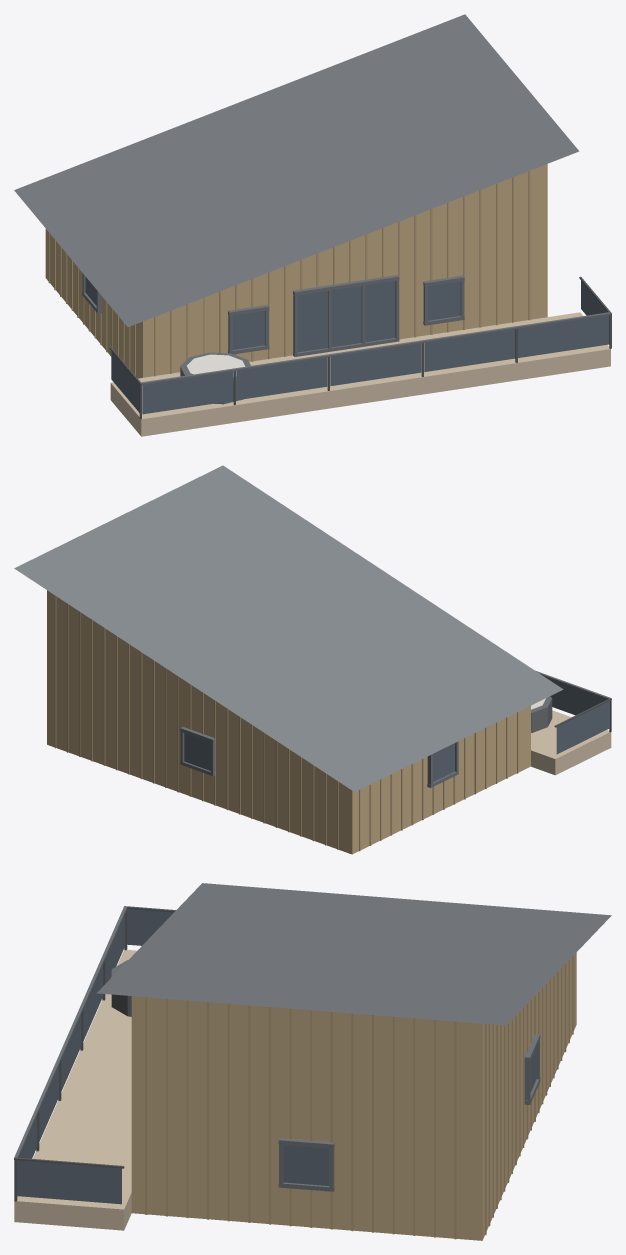
3 views of the same model, one above another, from view 1: azimuth 30°, elevation 25°; view 2: azimuth 150°, elevation 25°; view 3: azimuth 270°, elevation 25° (orthographic). The views are drawn at different scales.
Parts seen in each view (by area): view 1: slate, door_wood, larch, door_wood_p, slate_dk, window_glass_001, window_glass_003, window_glass_004, window_glass_005, window_glass_002, window_glass_008, window_glass_009 (+6 smaller); view 2: slate, door_wood, door_wood_p, larch, window_glass_006, slate_dk, window_glass_001, window_glass_015, window_glass_013, band_dark; view 3: door_wood, slate, door_wood_p, larch, window_glass_007, slate_dk, window_glass_014, pipe, window_glass_006, window_glass_004, window_glass_003, window_glass_002 (+1 smaller).
Boxes of the visible parts, x1,y1,x2,y2 form: slate: (14,14,579,326); door_wood: (45,164,547,378); larch: (110,312,610,436); door_wood_p: (48,171,530,376); slate_dk: (82,273,610,385); window_glass_001: (142,371,233,414); window_glass_003: (330,343,421,386); window_glass_004: (424,329,515,371); window_glass_005: (518,315,609,357); window_glass_002: (236,357,327,400); window_glass_008: (297,291,327,352); window_glass_009: (331,286,361,347); slate: (14,465,563,791); door_wood: (47,590,530,854); door_wood_p: (54,595,518,851); larch: (531,710,611,775); window_glass_006: (556,701,609,754); slate_dk: (180,670,610,787); window_glass_001: (546,677,606,715); window_glass_015: (184,733,210,770); window_glass_013: (433,743,454,781); band_dark: (531,696,552,732); door_wood: (131,953,576,1240); slate: (97,883,611,1025); door_wood_p: (145,956,573,1239); larch: (14,950,136,1230); window_glass_007: (17,1160,121,1204); slate_dk: (14,906,540,1191); window_glass_014: (283,1145,329,1185); pipe: (14,906,175,1201); window_glass_006: (127,909,173,945); window_glass_004: (39,1064,59,1141); window_glass_003: (61,1014,81,1091); window_glass_002: (83,964,103,1040).
Size of the model in its own units: 14.51 by 5.45 by 12.84.
